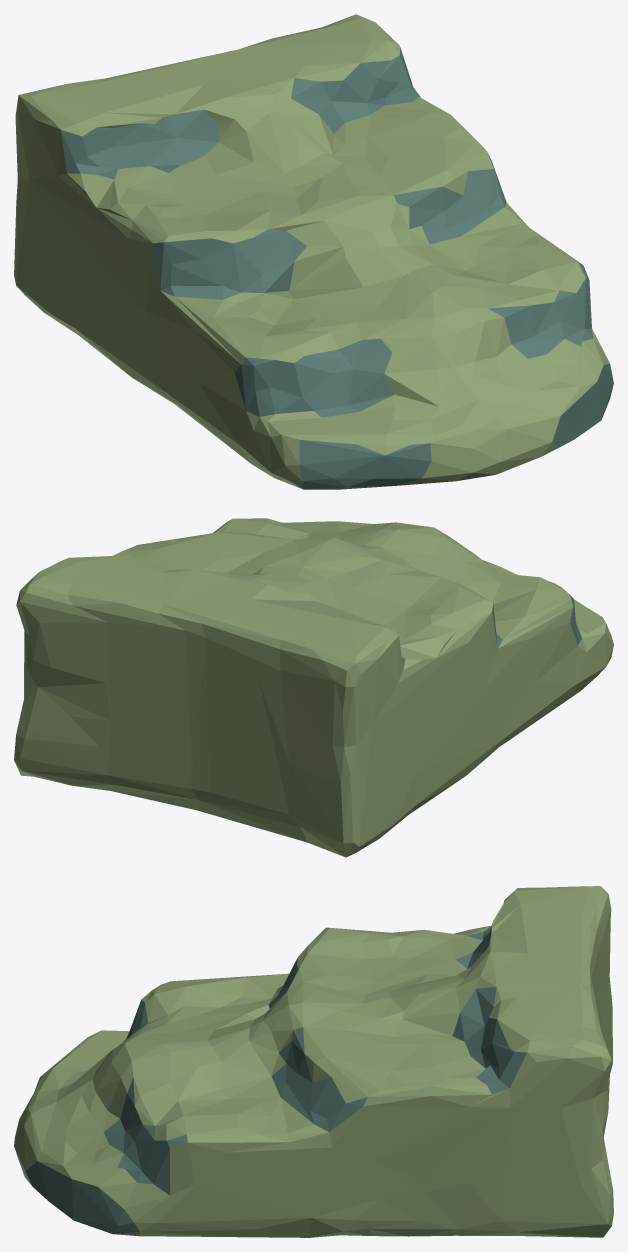
Rendered from T road1.fbx.
3 views of the same model, one above another, from view 1: azimuth 30°, elevation 25°; view 2: azimuth 150°, elevation 25°; view 3: azimuth 270°, elevation 25° (orthographic). The views are drawn at different scales.
Parts seen in each view (by area): view 1: _T__road; view 2: _T__road; view 3: _T__road.
Boxes of the visible parts, x1,y1,x2,y2 form: _T__road: (14, 14, 613, 489); _T__road: (14, 518, 613, 857); _T__road: (14, 886, 613, 1237).
Bounding box in the file's own units: 208 × 114 × 319.
